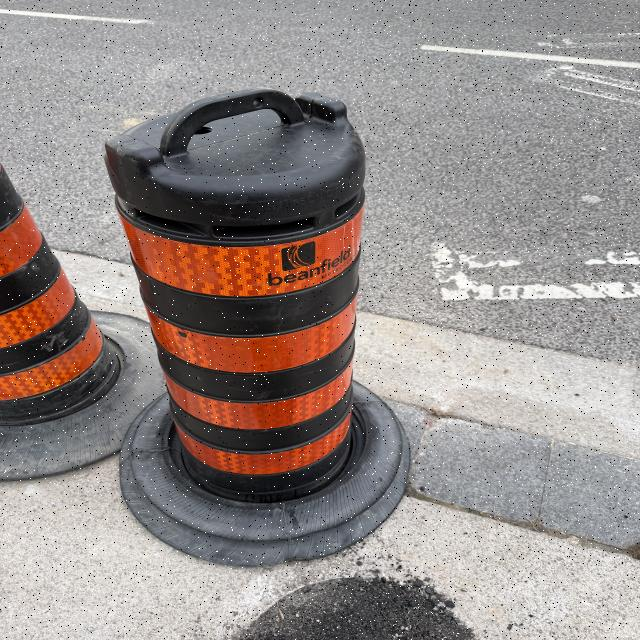Teraffic Barrel: (106, 89, 409, 564), (0, 166, 162, 480)
